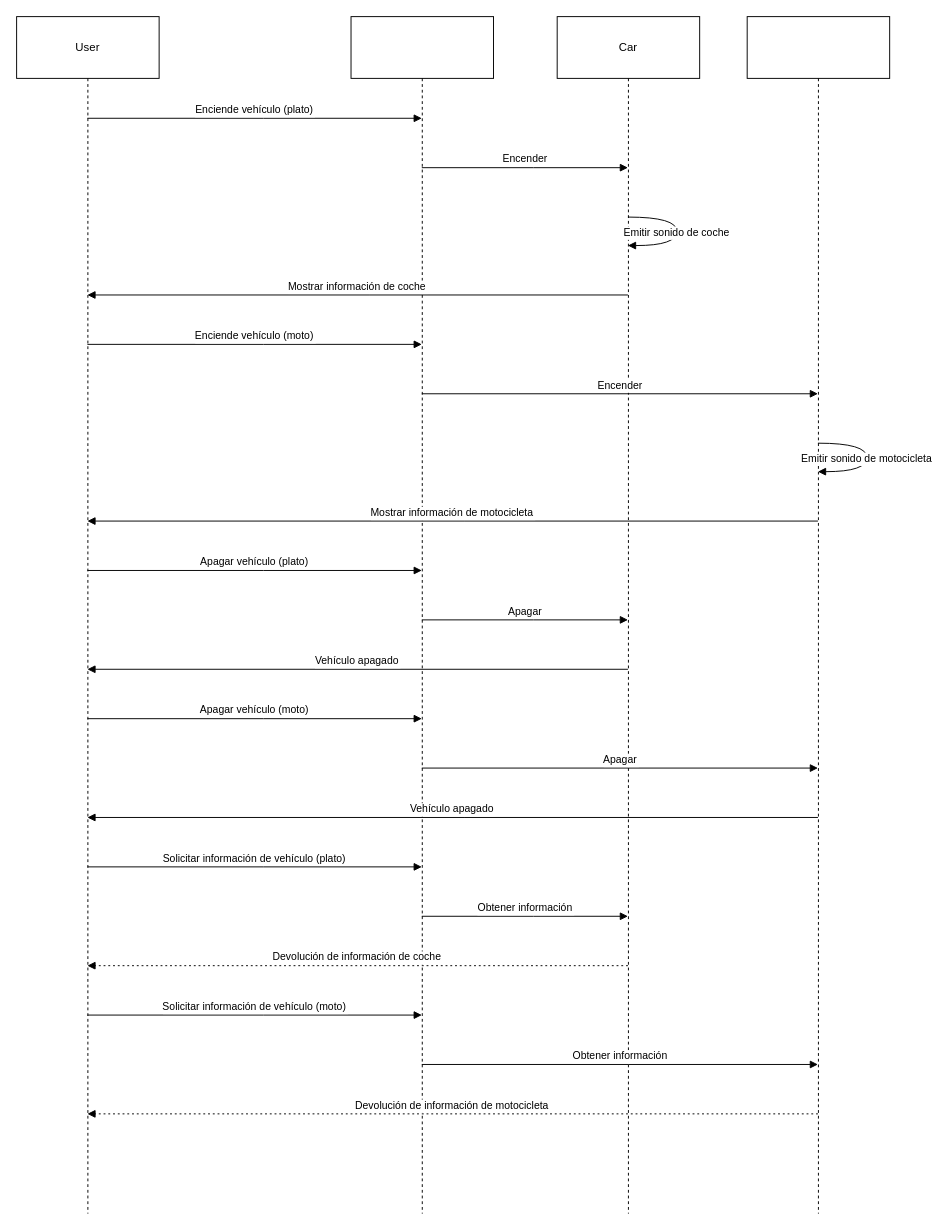
The diagram is 951 pixels wide and 1230 high, and some of its shapes have lost their labels. Each missing label, with the box of its shape:
Motorcycle: (746, 16, 890, 1214)
VehicleManager: (350, 16, 494, 1214)
